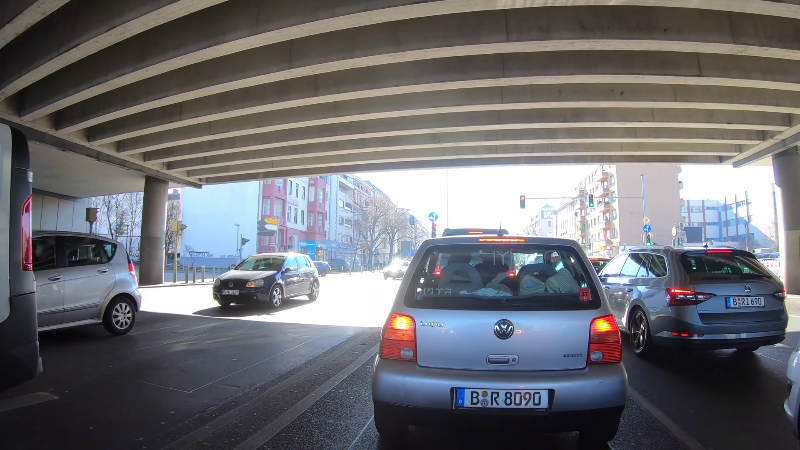Plate: (452, 384, 551, 410), (727, 294, 765, 307), (219, 287, 239, 295)
